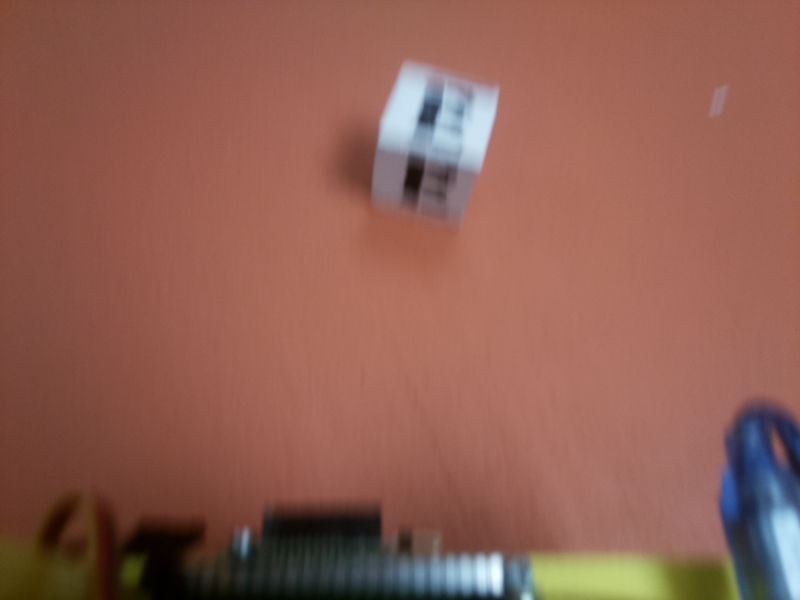blockE: (356, 62, 501, 232)
